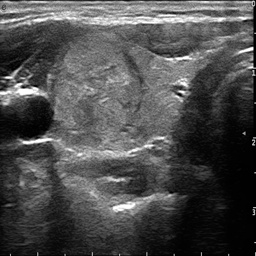mass: (55, 38, 143, 152)
